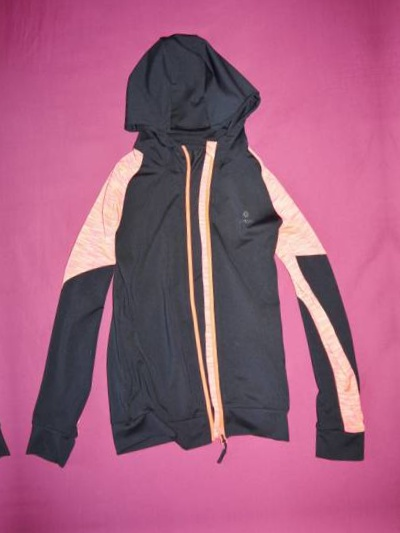Hoodie: (0, 29, 392, 492), (0, 54, 14, 516), (387, 4, 400, 467)
